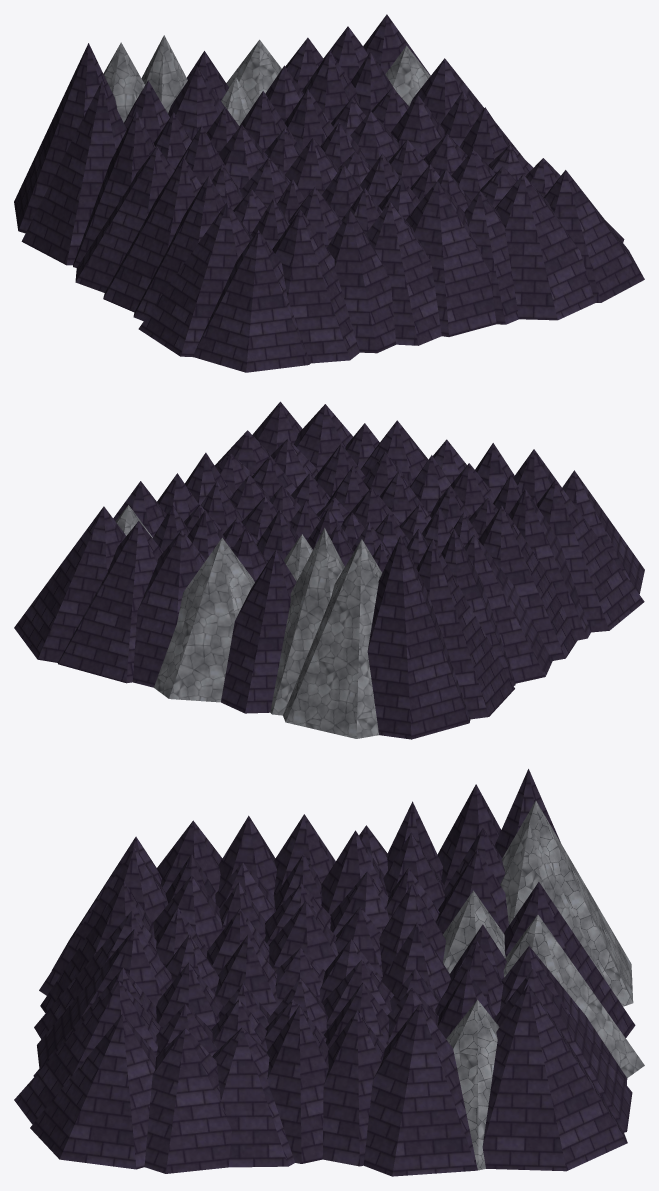
The model's file is chunk_1_23.glb.
The picture shows the model from 3 angles, top to bottom: view 1: azimuth 30°, elevation 25°; view 2: azimuth 150°, elevation 25°; view 3: azimuth 270°, elevation 25°; orthographic projection. The views are drawn at different scales.
Visible parts, largest first — view 1: chunk_1_23; view 2: chunk_1_23; view 3: chunk_1_23.
Boxes of the visible parts, box(x1,y1,x2,y2) form: chunk_1_23: box(14, 14, 644, 372); chunk_1_23: box(14, 401, 644, 739); chunk_1_23: box(14, 769, 644, 1176).
Bounding box in the file's own units: 21 × 7.48 × 21.82.
6 materials, 6 textured.
